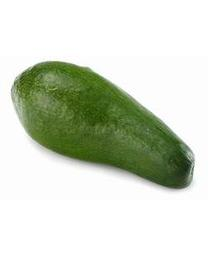avocado: (10, 60, 197, 191)
